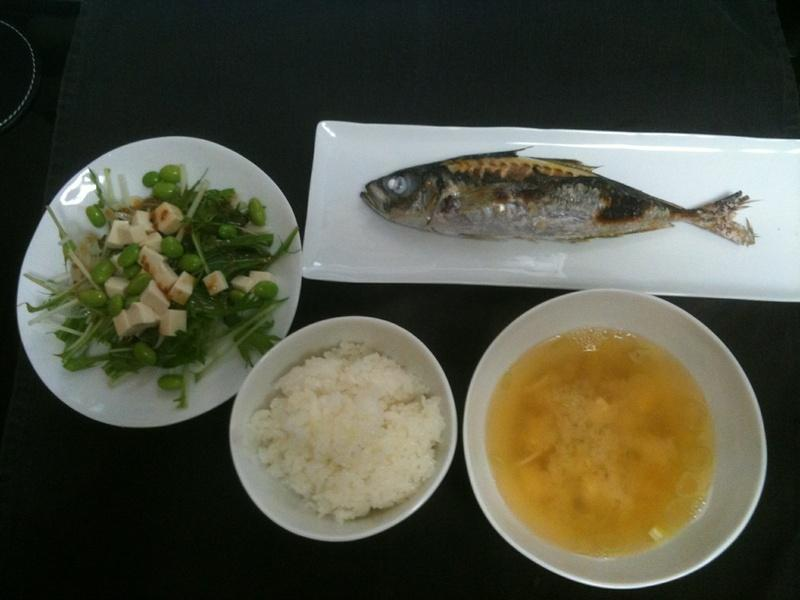rice: (251, 341, 447, 523)
